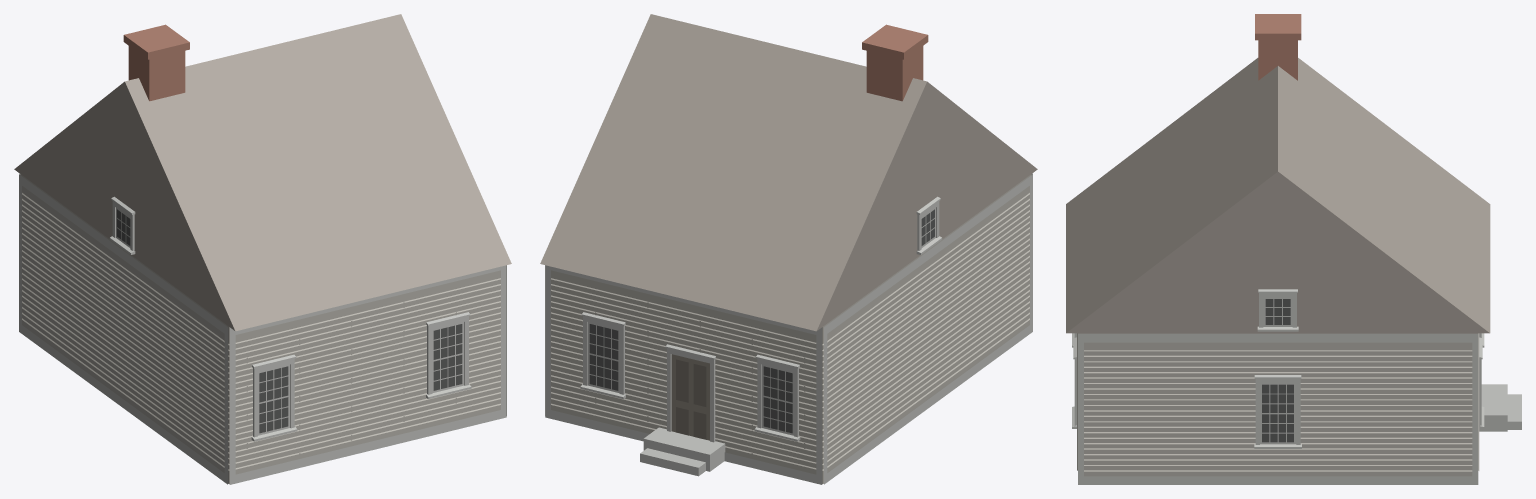
The model's file is recon_1835_south_d6_036__inferred_1835.glb.
3 renders of one model, left to right at view 1: azimuth 30°, elevation 25°; view 2: azimuth 150°, elevation 25°; view 3: azimuth 270°, elevation 25°, orthographic. The views are drawn at different scales.
Visible parts, largest first — view 1: recon_1835_south_d6_036__inferred_1835; view 2: recon_1835_south_d6_036__inferred_1835; view 3: recon_1835_south_d6_036__inferred_1835.
Part boxes in pixels (x1,y1,x2,y2): recon_1835_south_d6_036__inferred_1835: (14, 14, 511, 484); recon_1835_south_d6_036__inferred_1835: (540, 14, 1037, 484); recon_1835_south_d6_036__inferred_1835: (1066, 14, 1521, 484).
Size of the model in its own units: 6.68 by 8.06 by 9.62.
